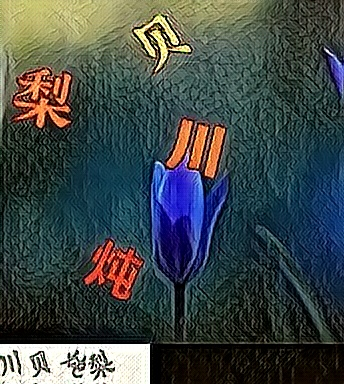B1B4: (131, 8, 193, 72)
B4A8: (164, 113, 226, 177)
C0E6: (11, 66, 73, 130)
ECC0: (83, 236, 145, 300)
